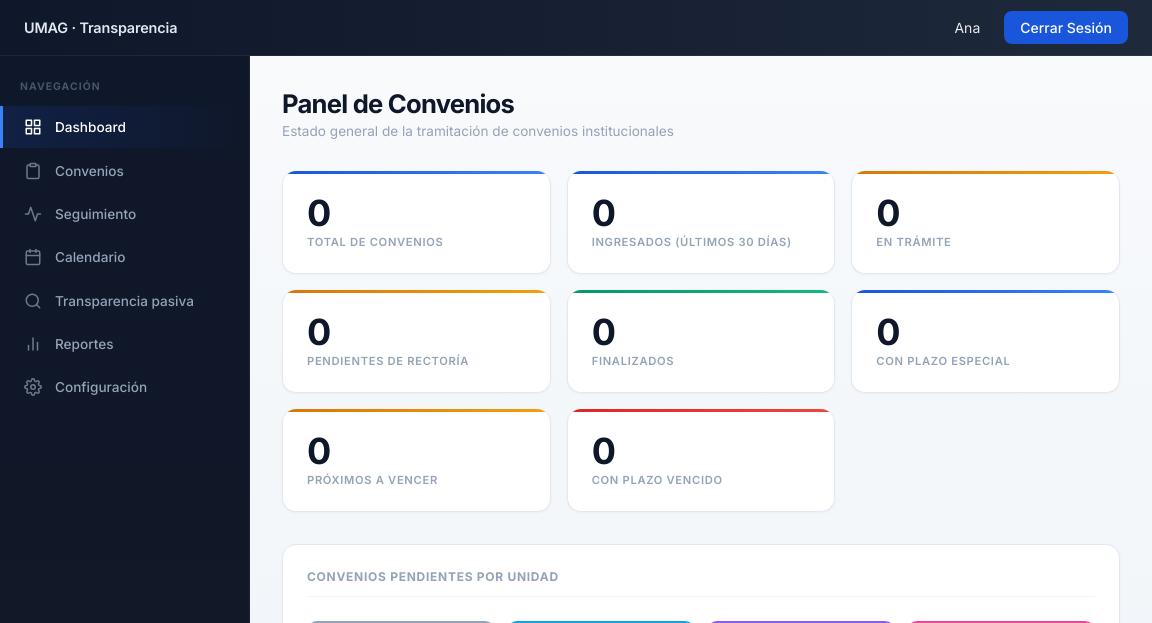
Test: sesión caducada al comprobar la conexión › un fallo de red deja la app en modo sin conexión, no fuera de sesión
Click the text "Configuración" at (86,387), box [24,378,147,396]
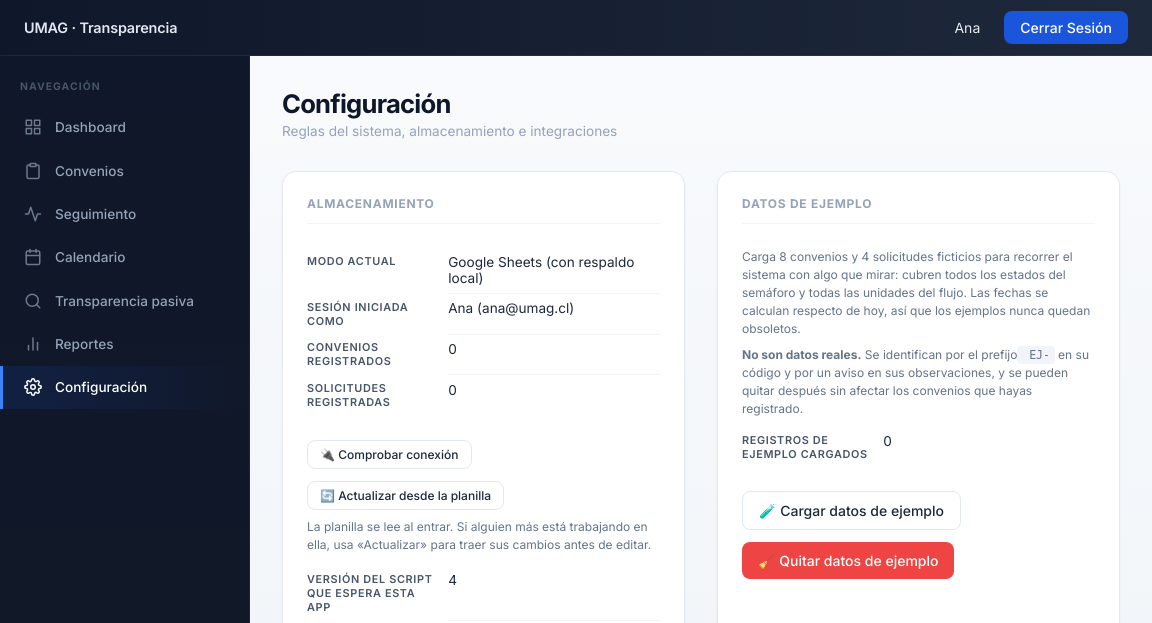
Click the button "🔌 Comprobar conexión" at (389,454), box [307,440,472,469]
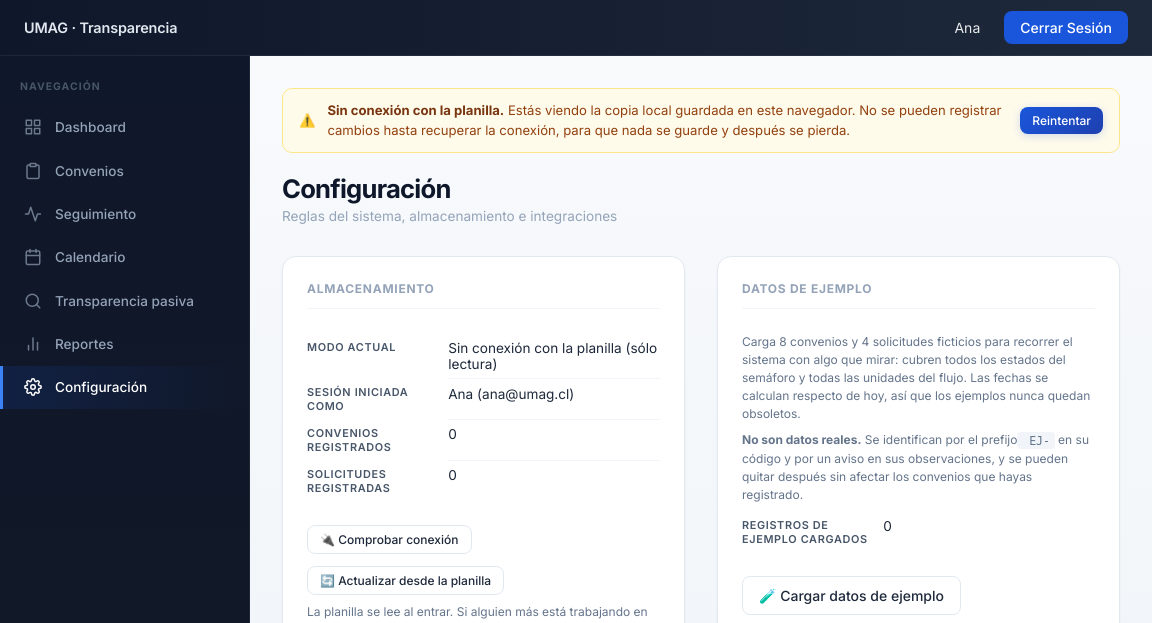
Check: the message with class "aviso-sin-conexion" is shown, box [282,88,1120,153]
